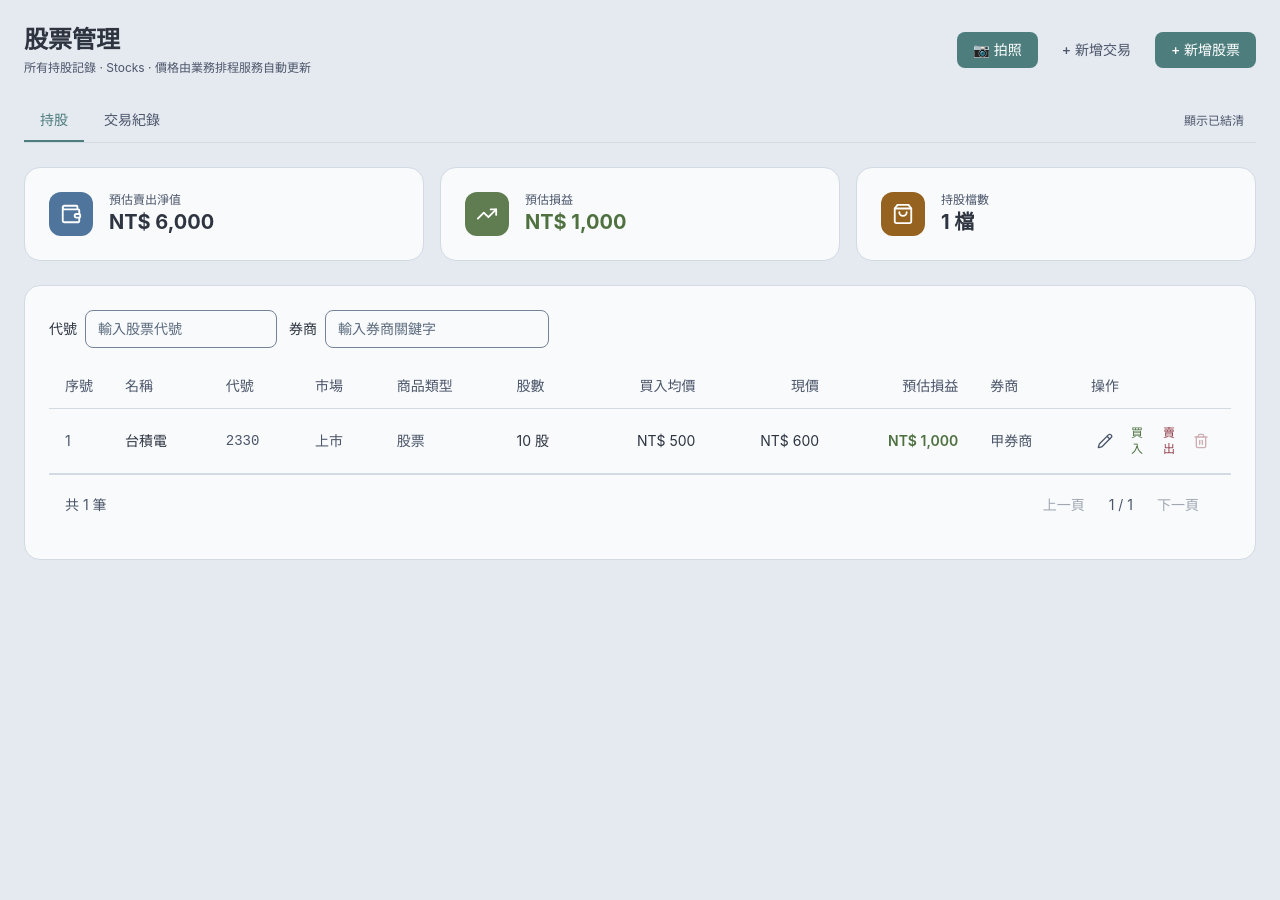
it: StocksPage ledger contract › estimates a new sell transaction from the stock page
Click the button with test id "stock-sell-1" at [1169, 441], box top-left (1155, 421), bottom-right (1183, 461)
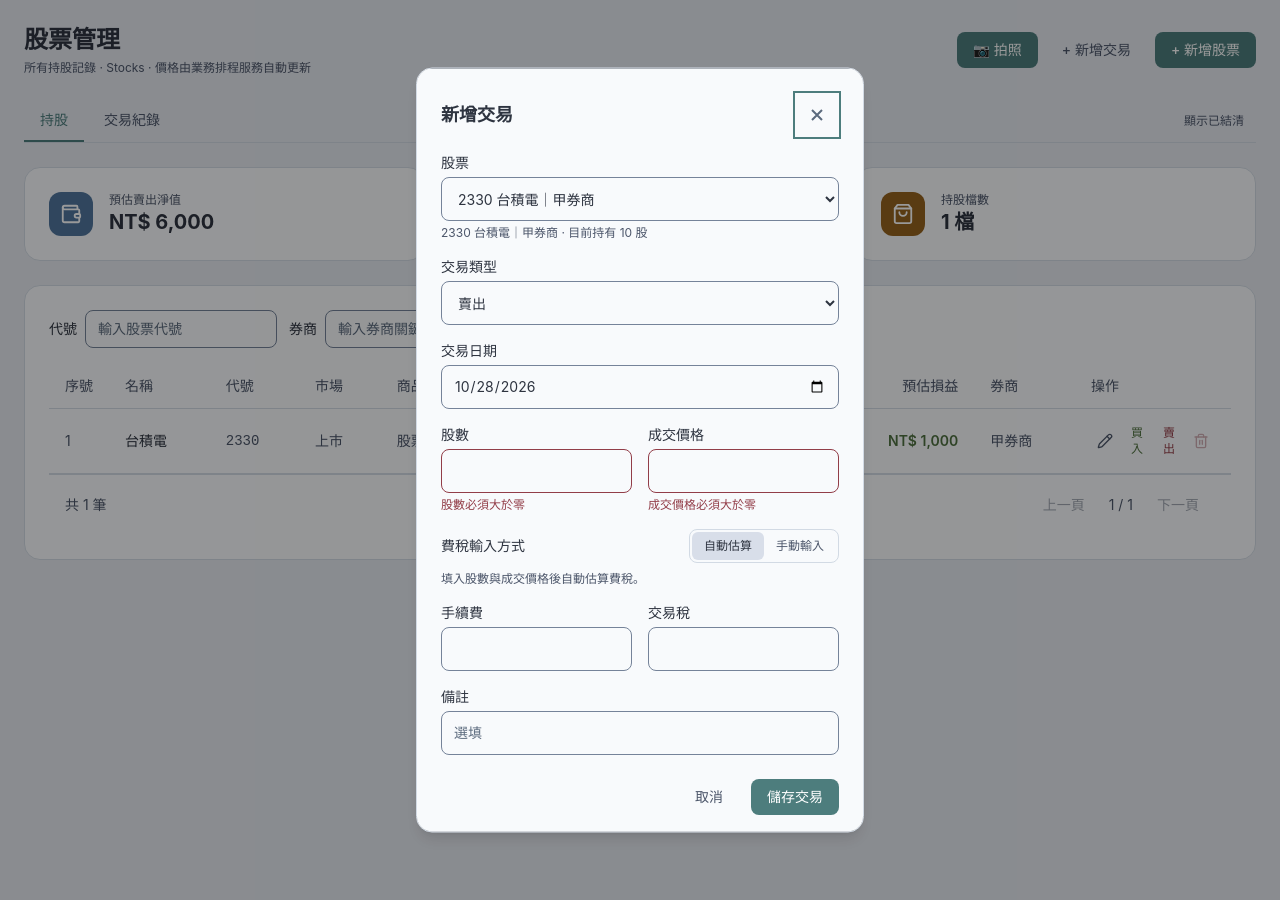
Type "2" into the 1st number field at [536, 470], box top-left (441, 448), bottom-right (632, 492)
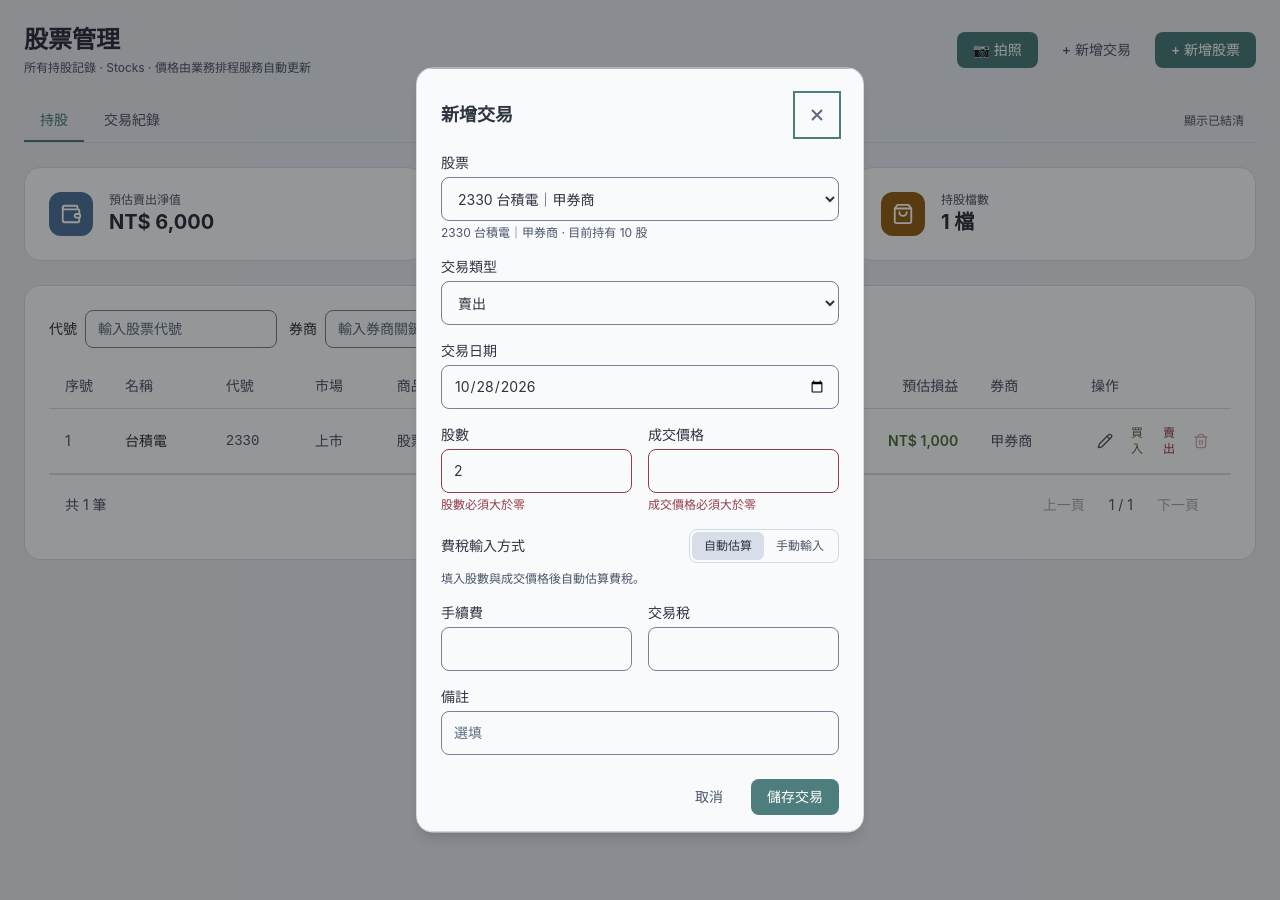
Type "610" into the 2nd number field at [744, 470], box top-left (648, 448), bottom-right (839, 492)
Wait 300 ms
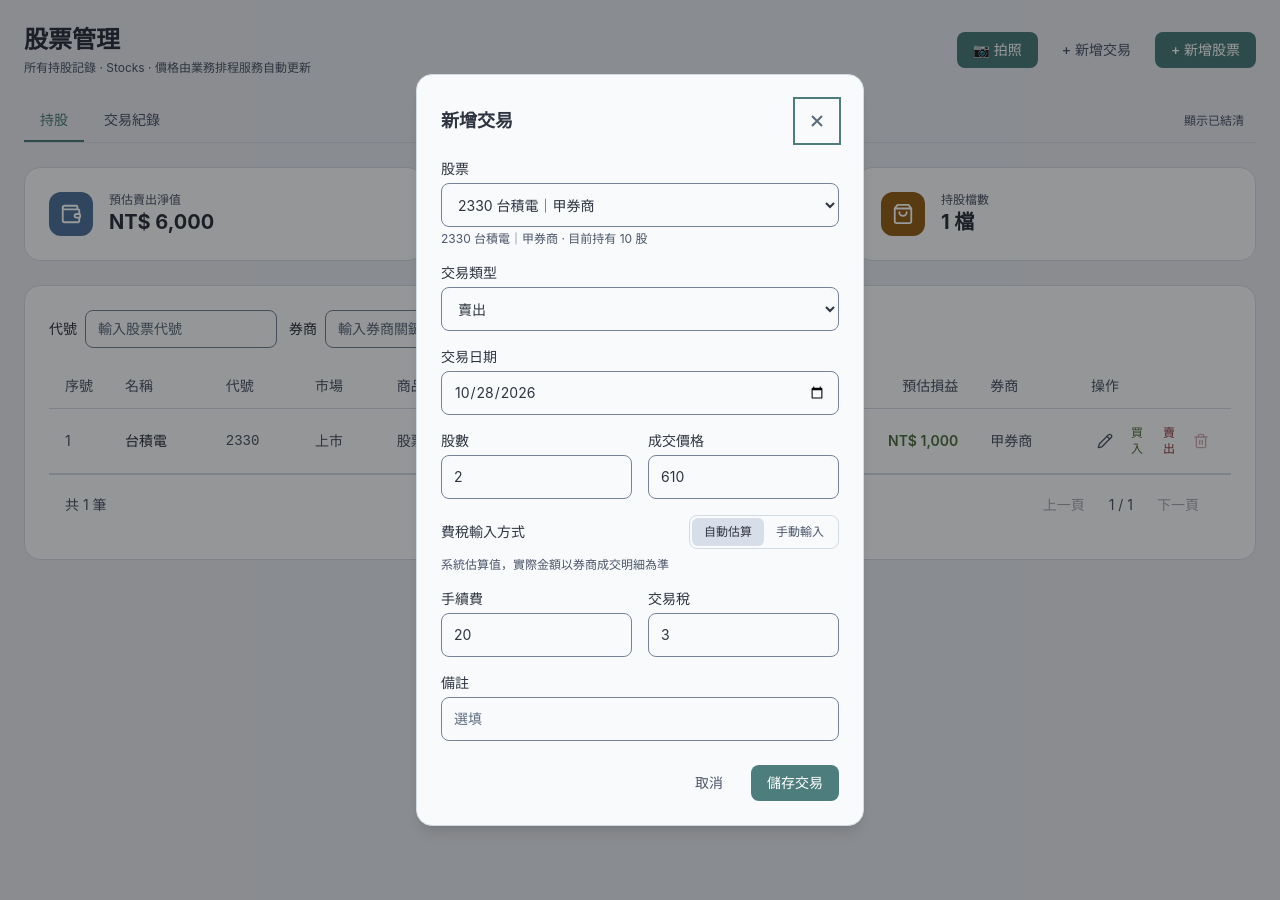
Expected: the number field with test id "transaction-fee" holds "20", top-left (441, 613), bottom-right (632, 657)
Expected: the number field with test id "transaction-tax" holds "3", top-left (648, 613), bottom-right (839, 657)
